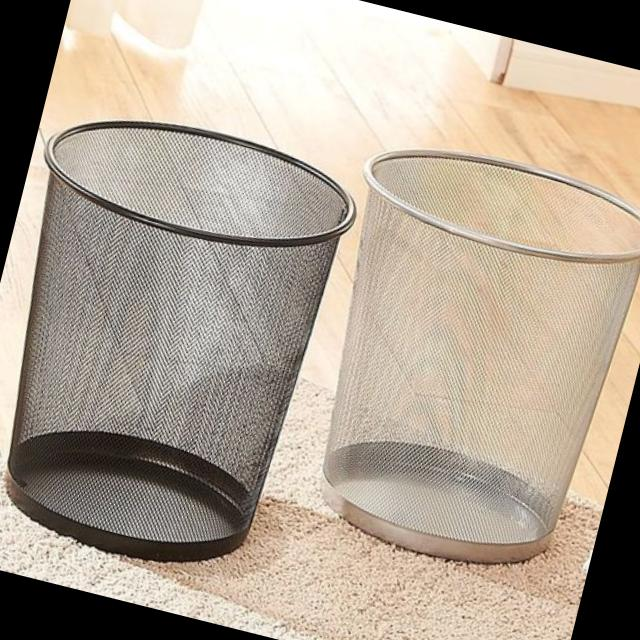dustbin: (0, 88, 371, 593), (276, 121, 640, 593)
